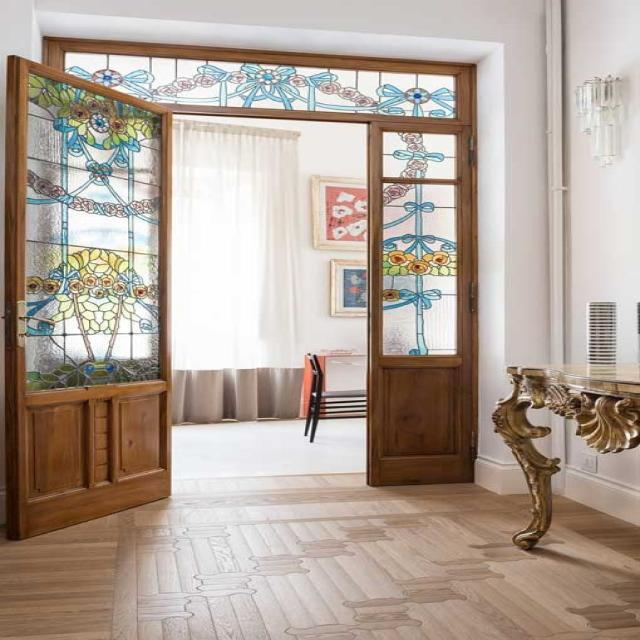door: (2, 54, 174, 540)
